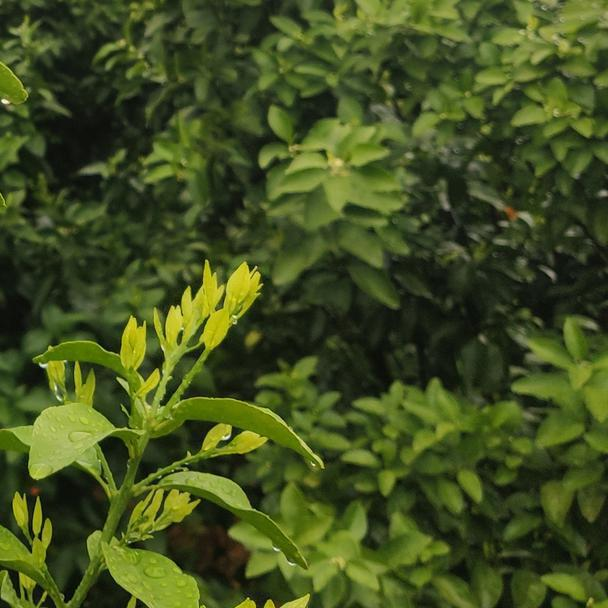shoot: (199, 263, 264, 352), (151, 284, 210, 378), (129, 493, 199, 547), (113, 322, 161, 394), (196, 424, 270, 467), (12, 489, 53, 565)
